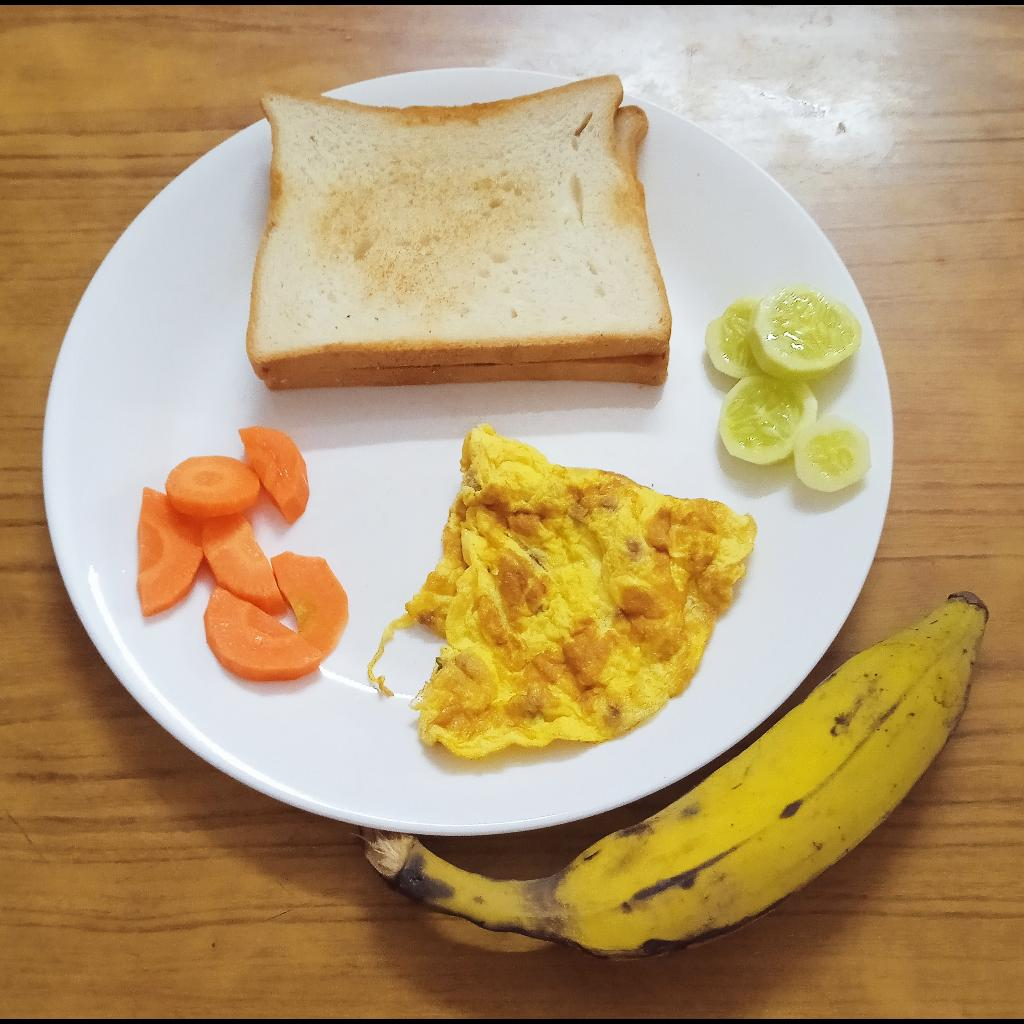banana: (357, 594, 995, 967)
bread: (244, 72, 678, 392)
carrot: (136, 423, 351, 683)
cucumber: (704, 282, 874, 496)
egg-poached: (368, 422, 761, 763)
